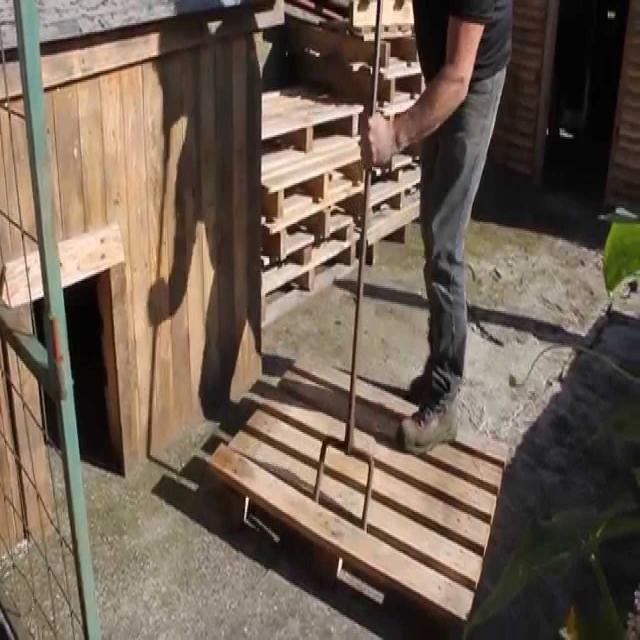Palette: (215, 342, 507, 640), (322, 0, 435, 245), (262, 77, 363, 330)
